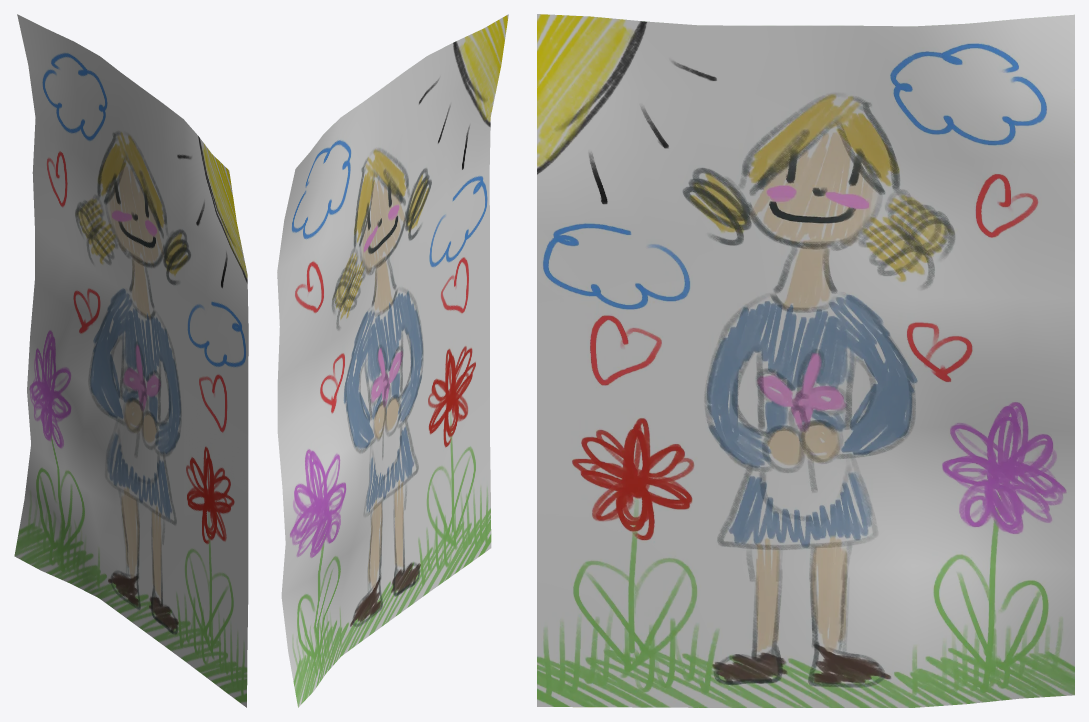
The model's file is child_drawing.glb.
The picture shows the model from 3 angles, left to right: view 1: azimuth 30°, elevation 25°; view 2: azimuth 150°, elevation 25°; view 3: azimuth 270°, elevation 25°; orthographic projection. The views are drawn at different scales.
Visible parts, largest first — view 1: drawing_1; view 2: drawing_1; view 3: drawing_1.
Part boxes in pixels (x1,y1,x2,y2): drawing_1: (14,14,248,707); drawing_1: (277,14,508,707); drawing_1: (537,14,1074,707).
Size of the model in its own units: 0.0133 by 0.3139 by 0.2243.
Materials: 1 (1 with a texture image).
